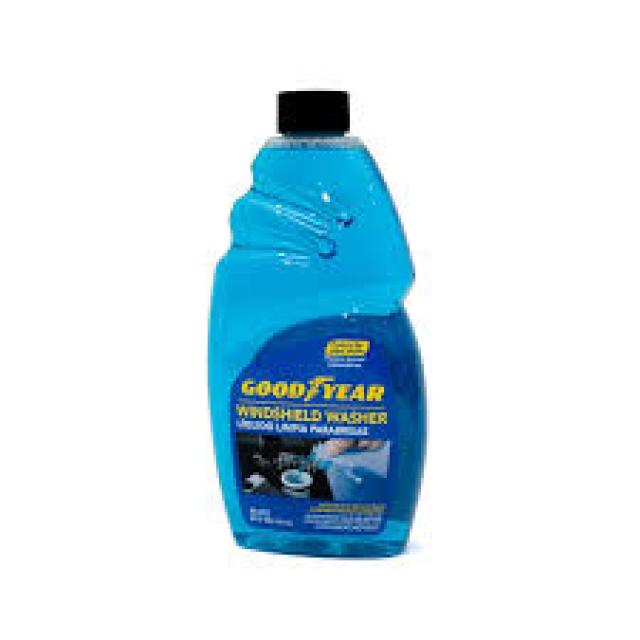winwinshield_washer: (203, 80, 430, 564)
